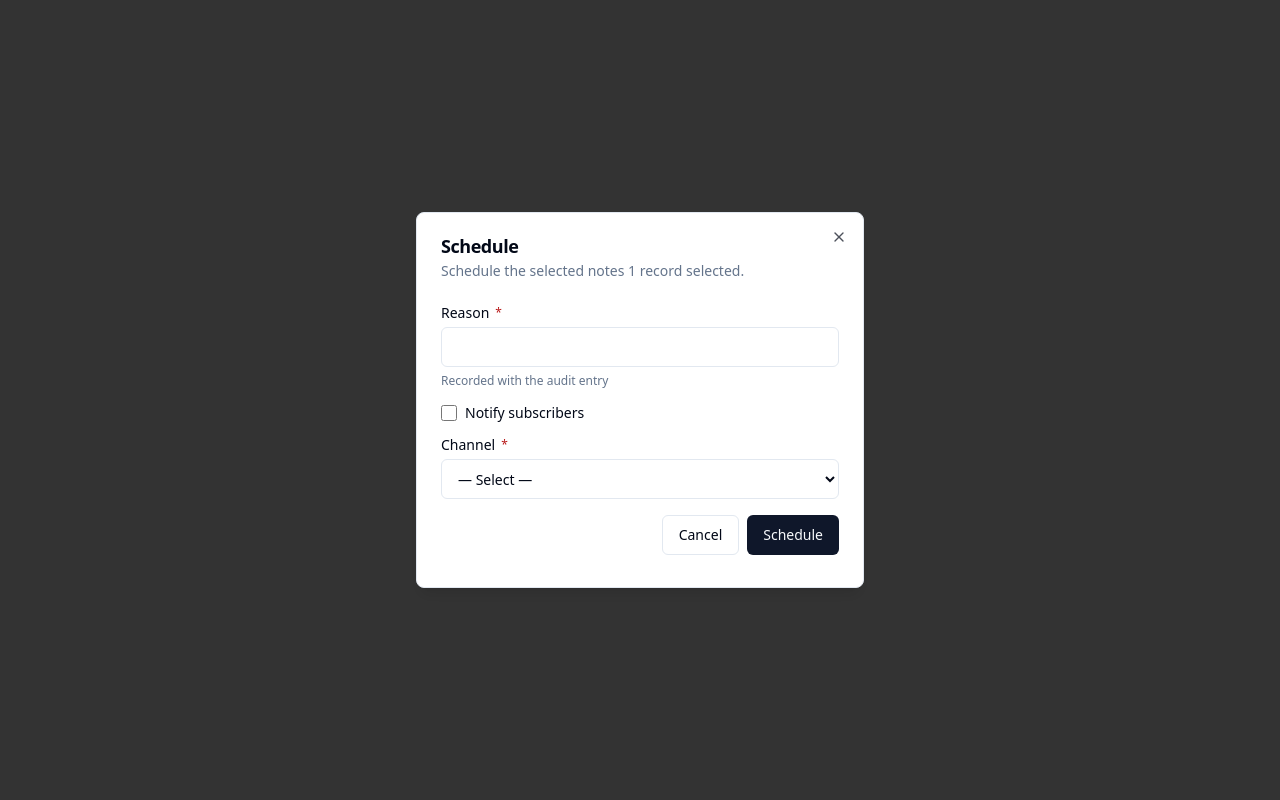
Test case: ActionFormDialog › shows any other refusal as a message
Click the button "Schedule" at (793,535), box [747,515,839,555]
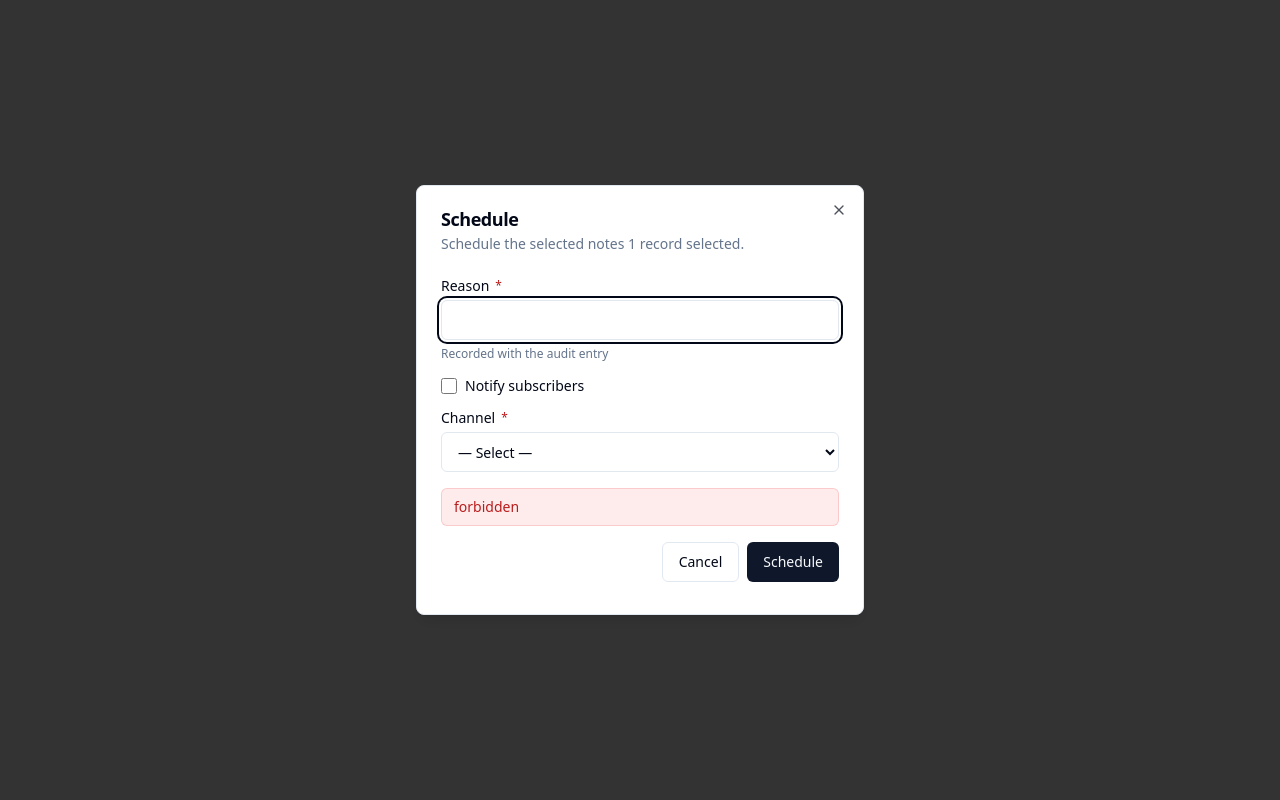
Expected: the message reads "forbidden", [454,497,519,516]
